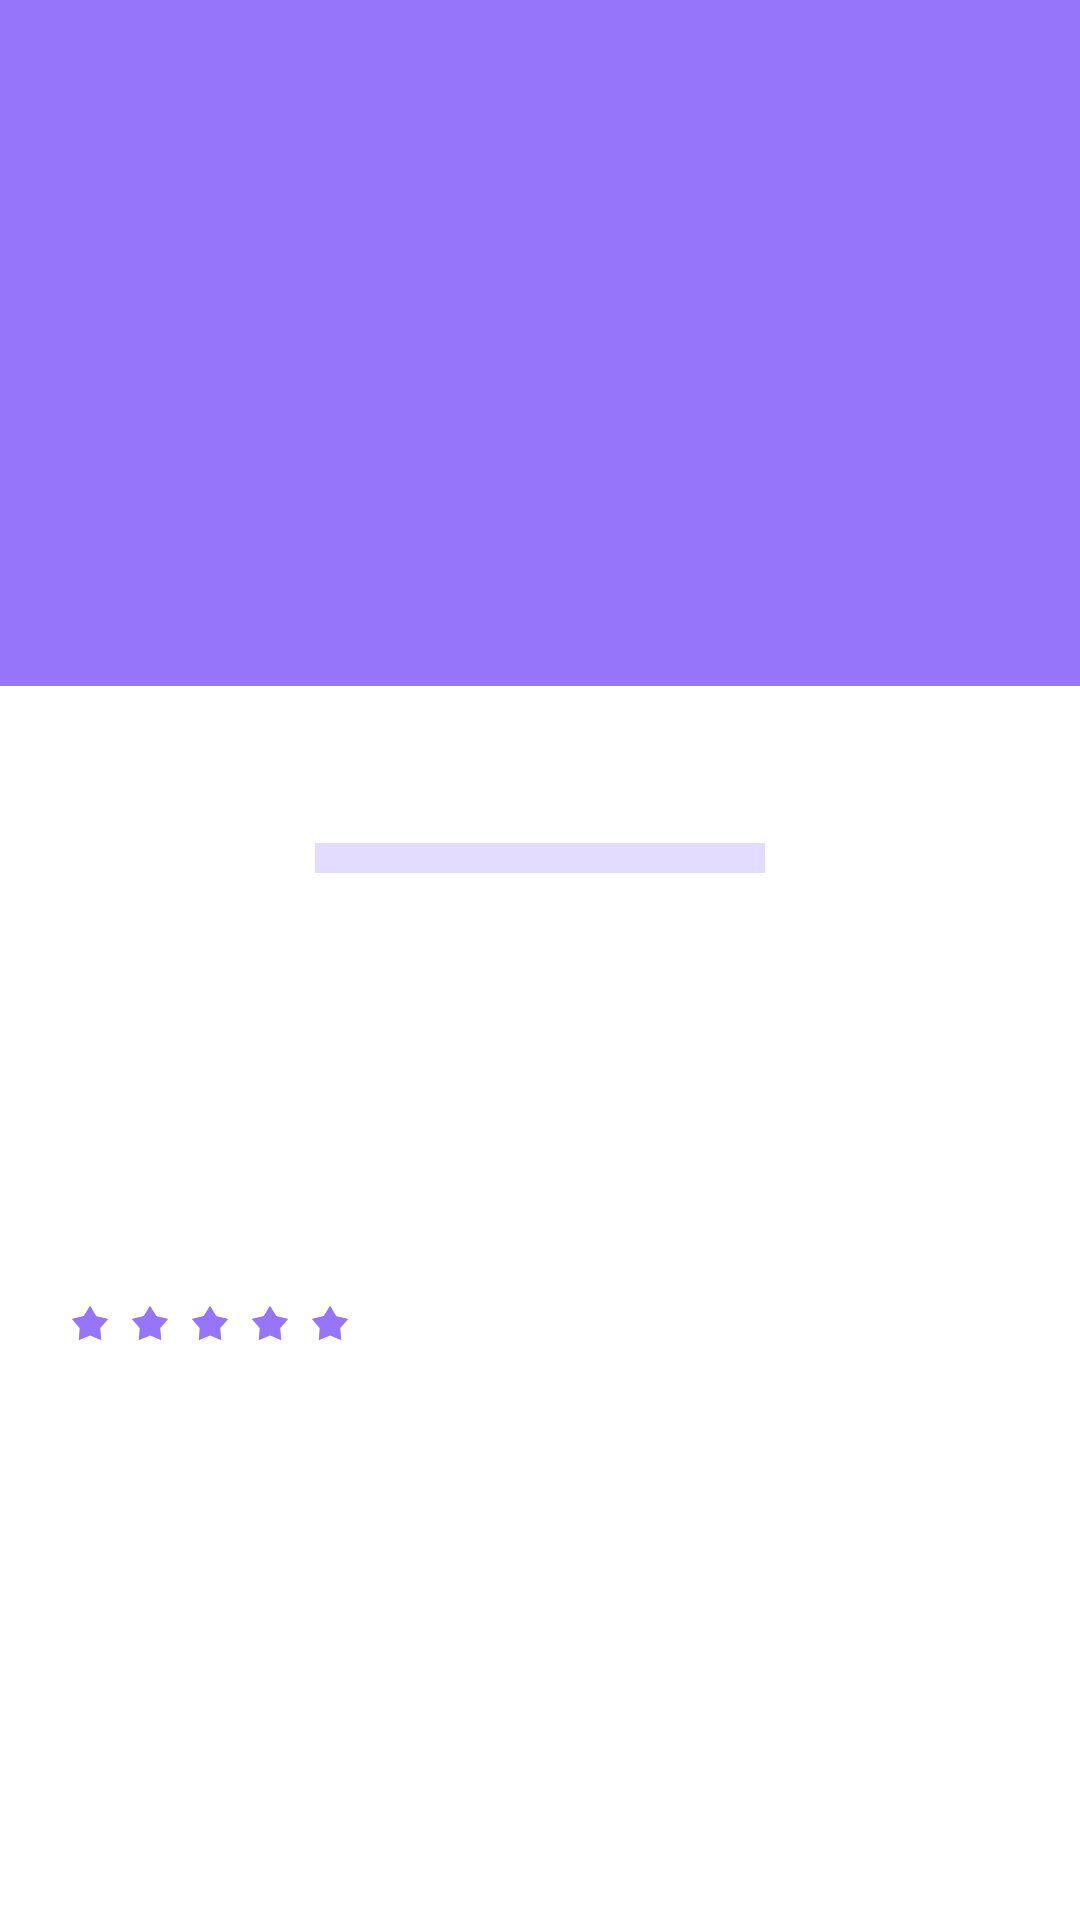

Where icons sit on this 1080 × 1920 app screen, as (x1, y1, x2, y2):
purplestar: (72, 1306, 108, 1340), (132, 1306, 168, 1340), (192, 1306, 228, 1340), (252, 1306, 288, 1340), (312, 1306, 348, 1340)
